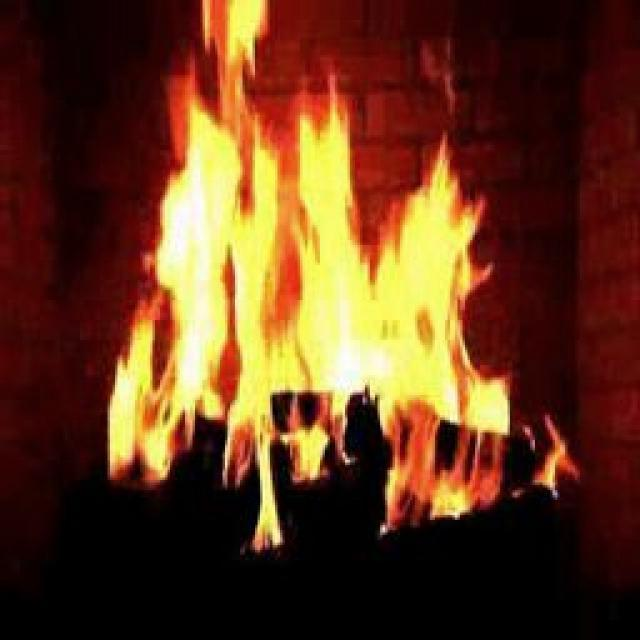Fire: (159, 41, 504, 484)
